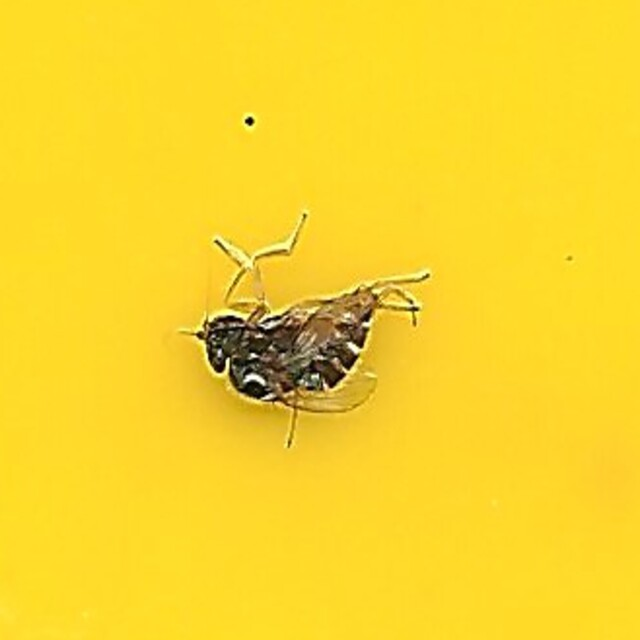Brachycera: (195, 221, 445, 419)
